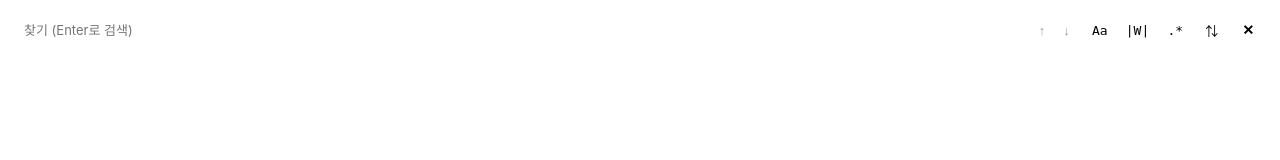
it: SearchBar › Replace Functionality › should disable replace buttons when no results
This screenshot has width=1280, height=160.
Click the button named "바꾸기 토글".
click(1212, 30)  # box [1197, 16, 1226, 44]
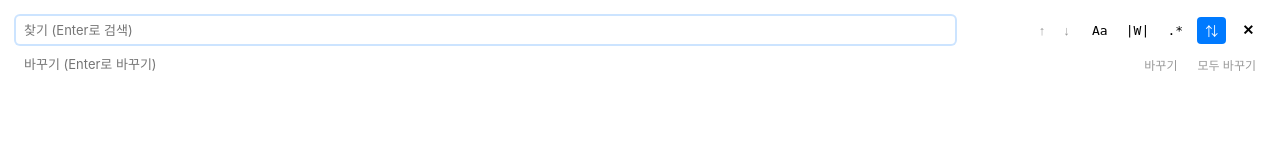
Check: the button labelled "바꾸기" is disabled, box [1136, 52, 1185, 76]
Check: the button labelled "모두 바꾸기" is disabled, box [1190, 52, 1264, 76]
